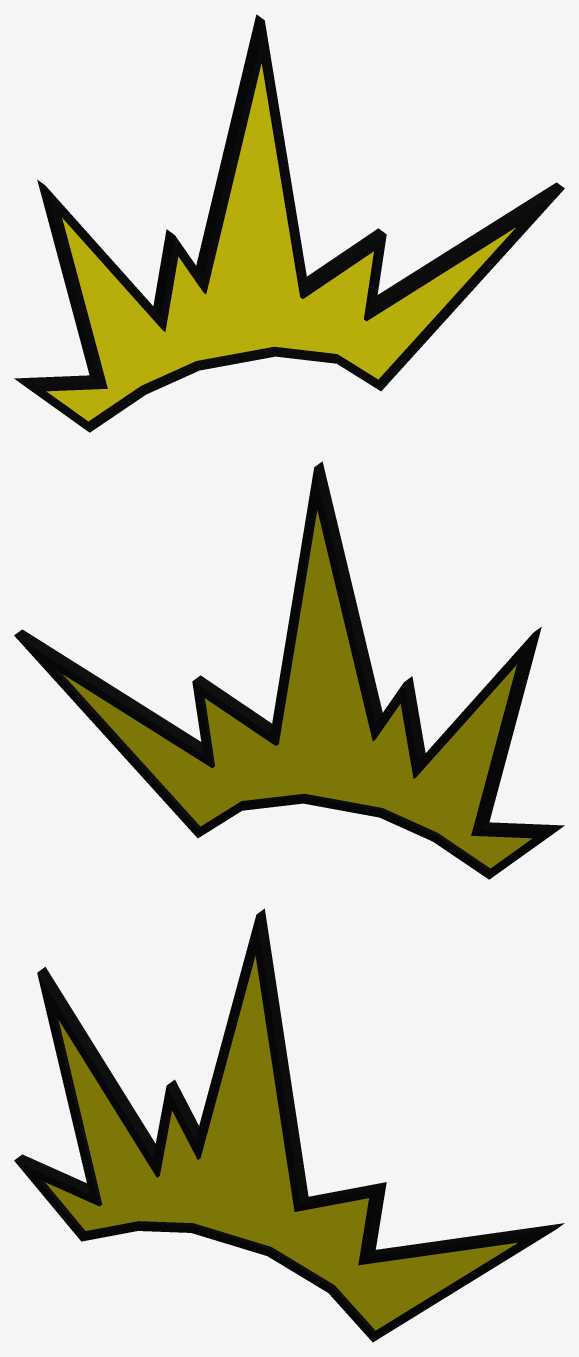
File: Crash_002.FBX
3 renders of one model, top to bottom at view 1: azimuth 30°, elevation 25°; view 2: azimuth 150°, elevation 25°; view 3: azimuth 330°, elevation 25°, orthographic.
Visible parts, largest first — view 1: Crash_002; view 2: Crash_002; view 3: Crash_002.
Boxes of the visible parts, x1,y1,x2,y2 form: Crash_002: (14, 14, 564, 432); Crash_002: (14, 461, 564, 879); Crash_002: (14, 908, 564, 1342).
Size of the model in its own units: 150 by 4 by 105.
